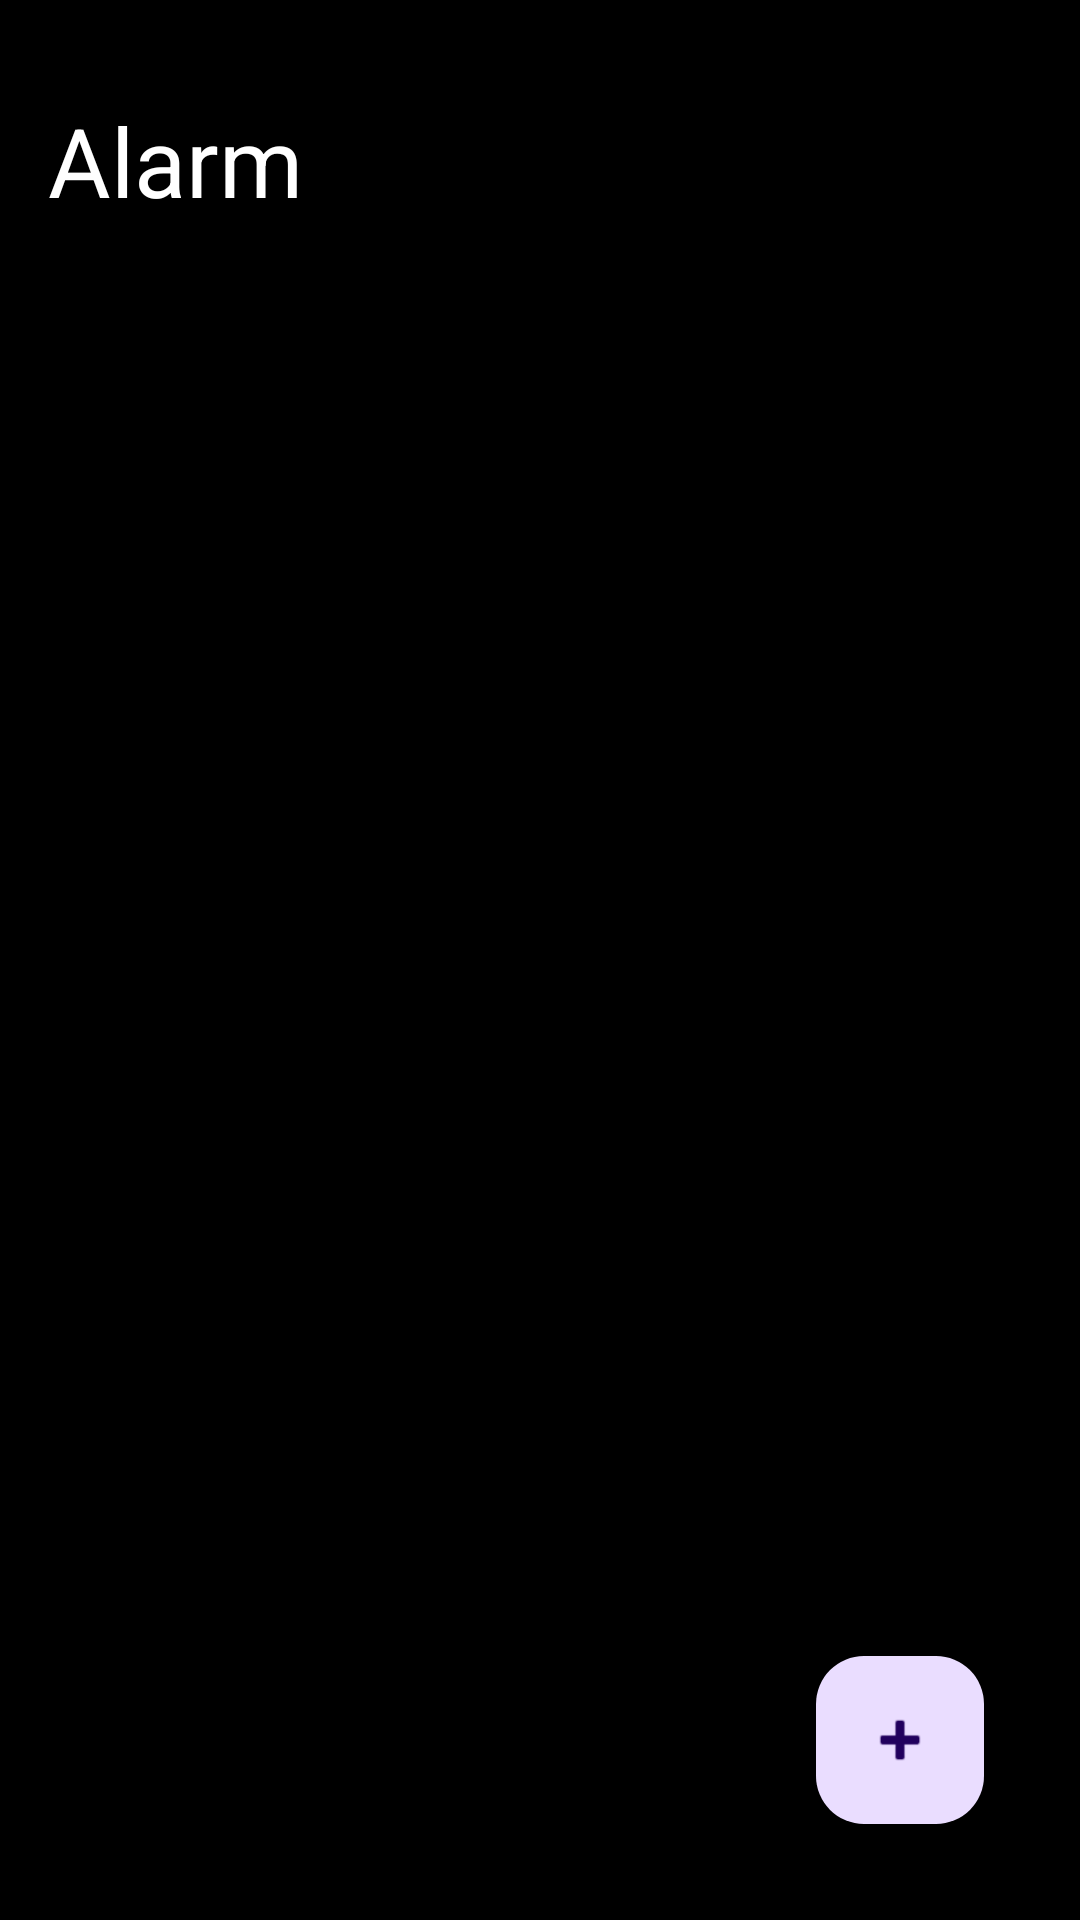

Icon bounding boxes for this 1080x1920 phone screenshot, format [x1=x1, y1=y1, x2=x2, y2=y2]:
Add Alarm: [x1=816, y1=1656, x2=984, y2=1824]
